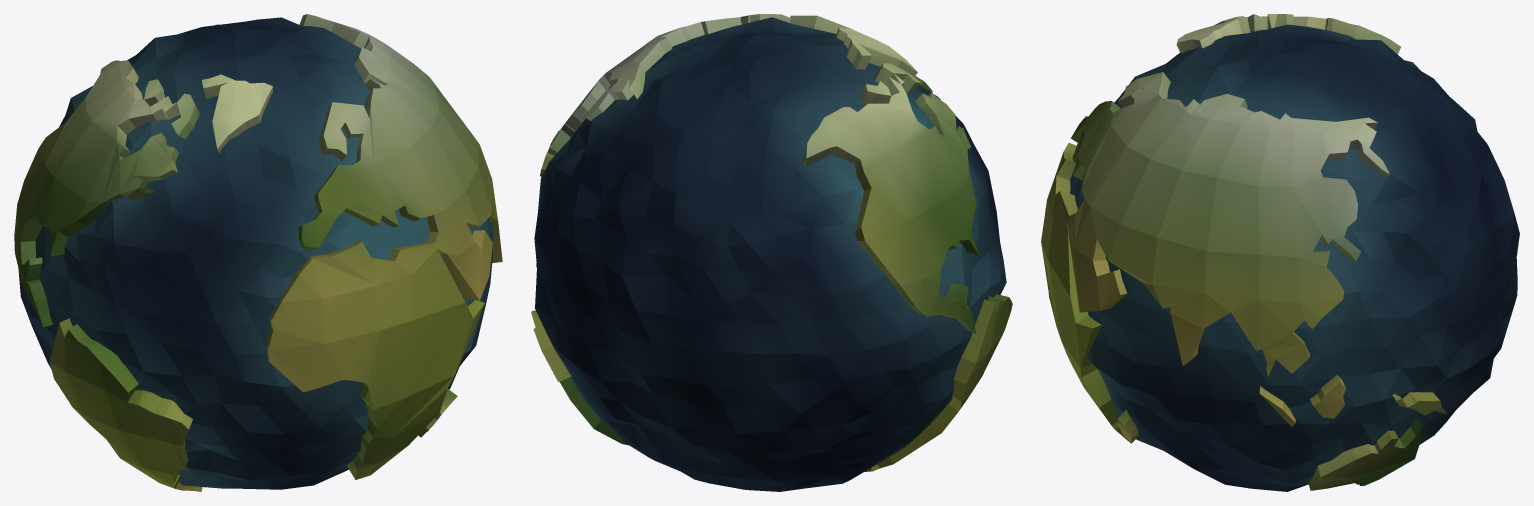
Rendered from Earth.fbx.
3 views of the same model, side by side, from view 1: azimuth 30°, elevation 25°; view 2: azimuth 150°, elevation 25°; view 3: azimuth 270°, elevation 25° (orthographic).
Parts seen in each view (by area): view 1: Earth; view 2: Earth; view 3: Earth.
Boxes of the visible parts, <box> form: Earth: <box>14,14,502,491</box>; Earth: <box>531,14,1012,491</box>; Earth: <box>1041,14,1519,491</box>.
Size of the model in its own units: 11.95 by 11.46 by 11.73.
